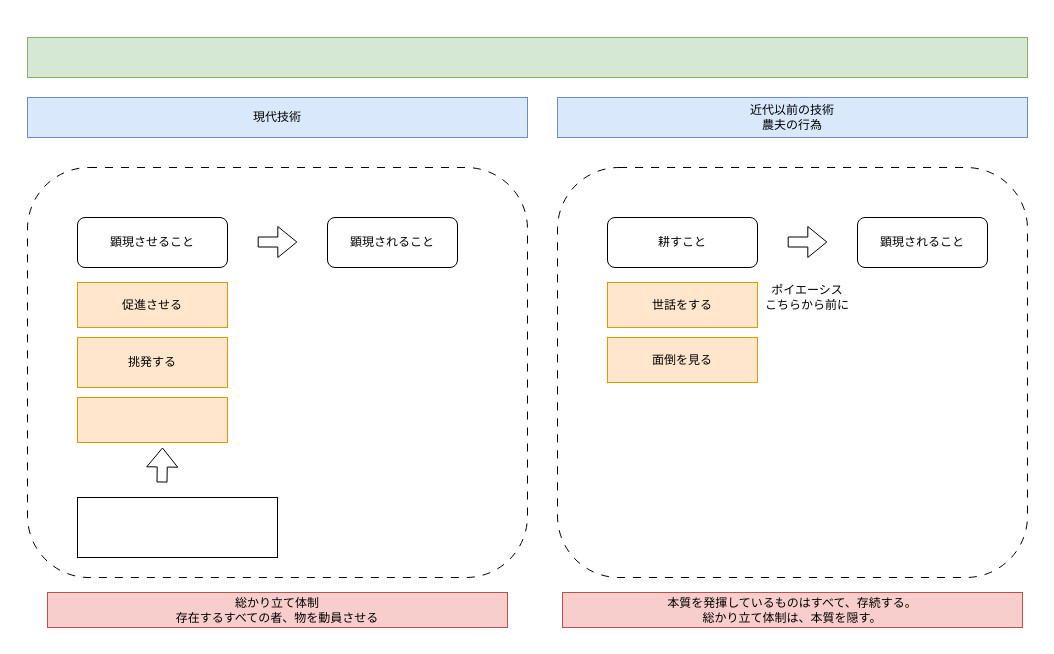
Image size: 1054x654. Some labels were removed from this diagram. Here are the shapes that lost their labels. From the top down, the centre of each, then its label:
At (x=527, y=57): "技術とは何だろうか 技術".
At (x=152, y=419): "開発する 変形する 変換する".
At (x=177, y=527): "徴用物質 徴用して立てられた物質".
